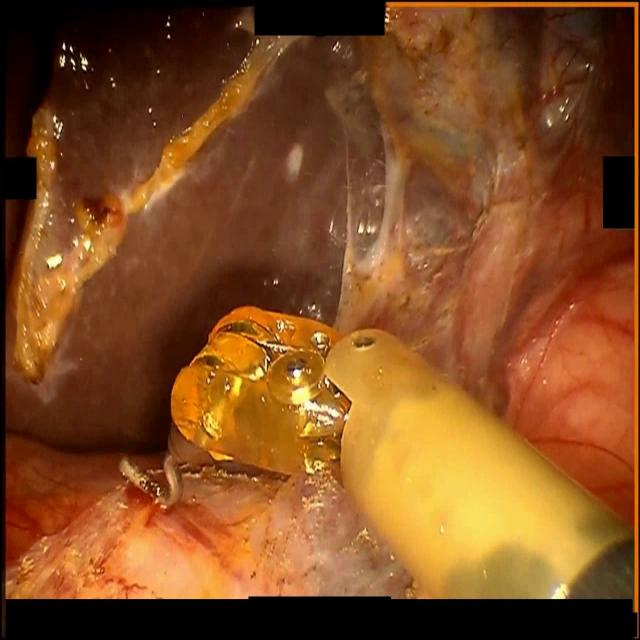surgical-area: (0, 0, 634, 601)
surgical-tool: (118, 303, 634, 598)
